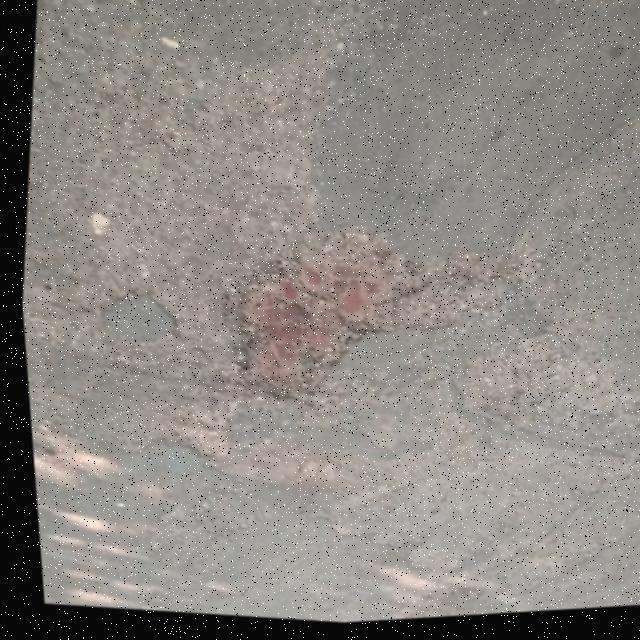pothole: (202, 205, 442, 428)
